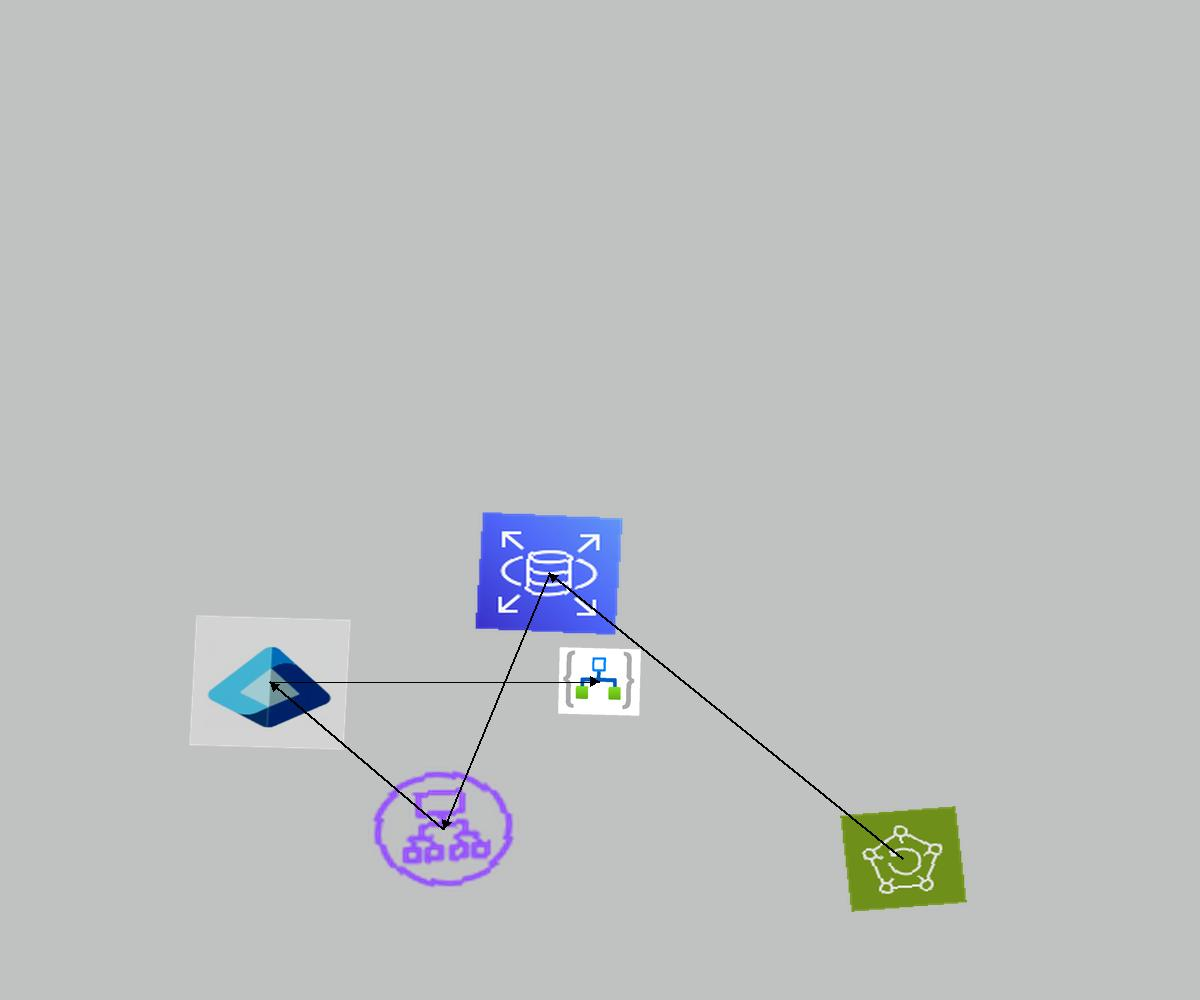AWS-Backup: (840, 806, 967, 912)
AWS-RDS: (474, 511, 624, 636)
AWS-Res_Elastic-Load-Balancing_Application-Load-Balancer: (359, 759, 528, 899)
Azure_integration-204-Logic-Apps: (558, 647, 641, 716)
Azure_microsoft_entra: (189, 615, 351, 750)
